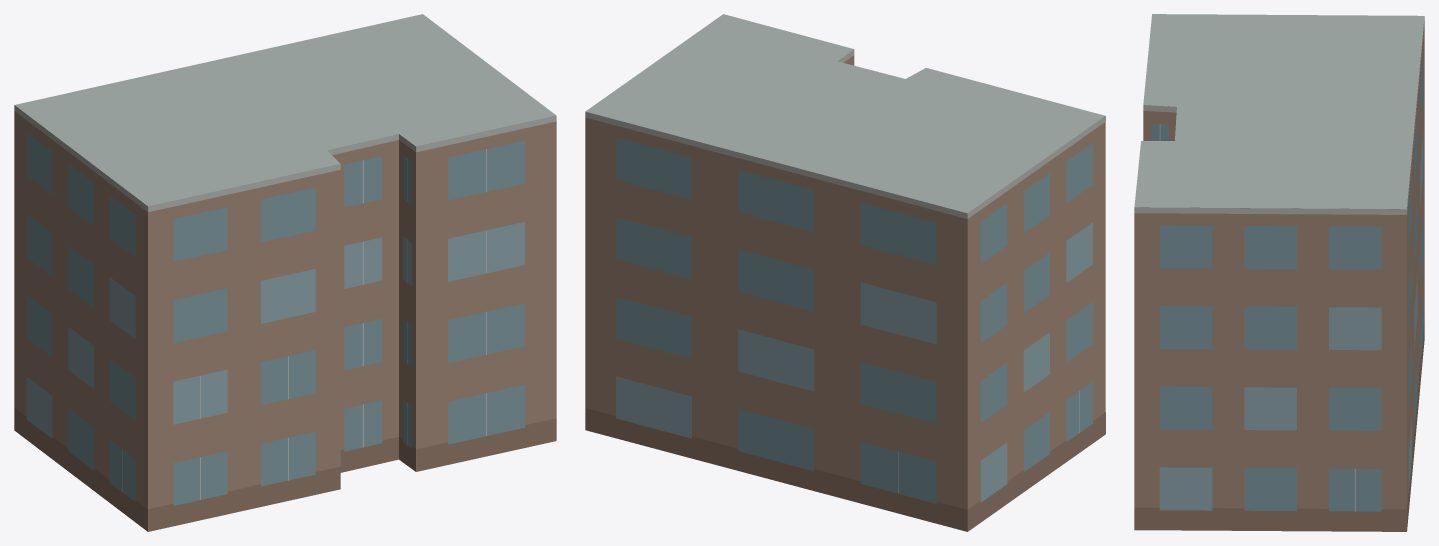
The model's file is survey-upis-32819415.glb.
3 renders of one model, left to right at view 1: azimuth 30°, elevation 25°; view 2: azimuth 150°, elevation 25°; view 3: azimuth 270°, elevation 25°, orthographic. The views are drawn at different scales.
Visible parts, largest first — view 1: survey-upis-32819415.tmp; view 2: survey-upis-32819415.tmp; view 3: survey-upis-32819415.tmp.
Part boxes in pixels (bbox=[...]): survey-upis-32819415.tmp: bbox=[14, 14, 556, 531]; survey-upis-32819415.tmp: bbox=[585, 14, 1105, 531]; survey-upis-32819415.tmp: bbox=[1134, 14, 1424, 531].
Bounding box in the file's own units: 17.52 × 13.5 × 11.01.
